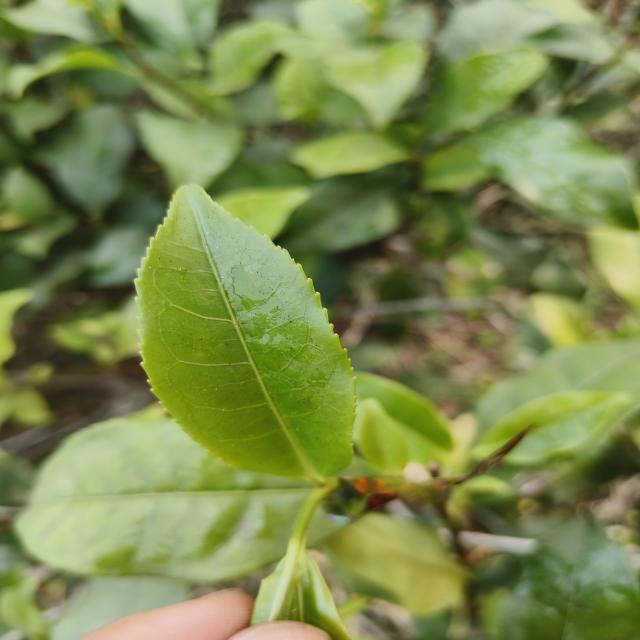Leaf: (136, 185, 355, 481), (17, 418, 313, 582), (466, 117, 637, 228), (494, 516, 640, 640), (478, 339, 640, 427), (478, 392, 629, 464), (425, 46, 548, 134), (39, 105, 134, 217), (285, 172, 401, 258), (324, 40, 427, 129), (136, 111, 243, 189), (8, 46, 132, 97), (211, 21, 288, 95), (292, 132, 409, 177), (216, 186, 310, 239), (3, 0, 95, 41), (576, 436, 606, 454)
